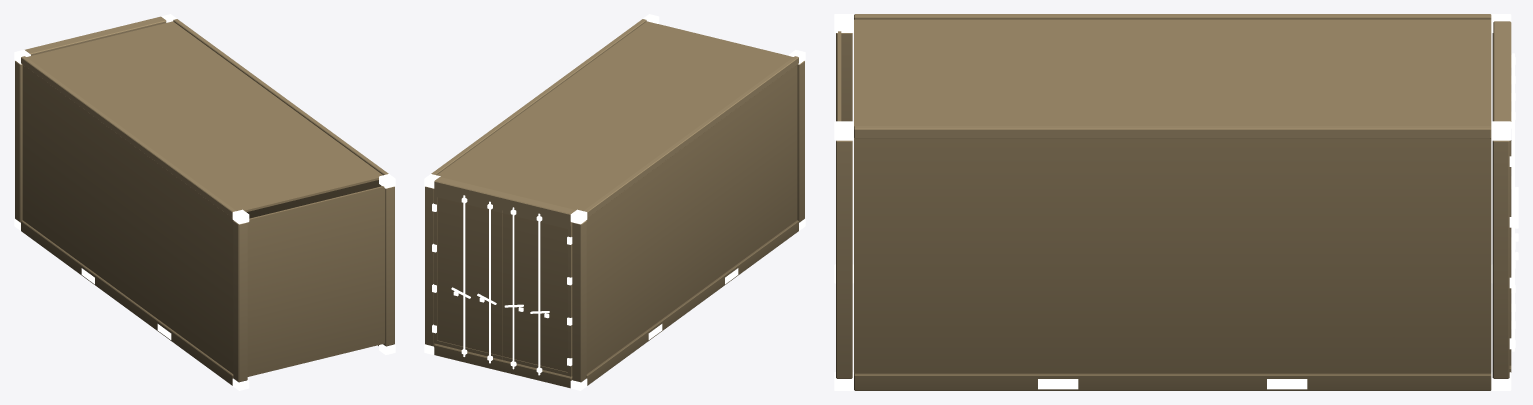
Rendered from iso_container_20_tan.glb.
3 renders of one model, left to right at view 1: azimuth 30°, elevation 25°; view 2: azimuth 150°, elevation 25°; view 3: azimuth 270°, elevation 25°, orthographic. The views are drawn at different scales.
Parts seen in each view (by area): view 1: iso_container_20_tan_LOD0; view 2: iso_container_20_tan_LOD0; view 3: iso_container_20_tan_LOD0.
Boxes of the visible parts, box(x1,y1,x2,y2) form: iso_container_20_tan_LOD0: box(14, 14, 395, 390); iso_container_20_tan_LOD0: box(424, 14, 805, 390); iso_container_20_tan_LOD0: box(834, 14, 1518, 390).
Size of what is drawn, in the model's own units: 2.44 by 2.59 by 6.13.
